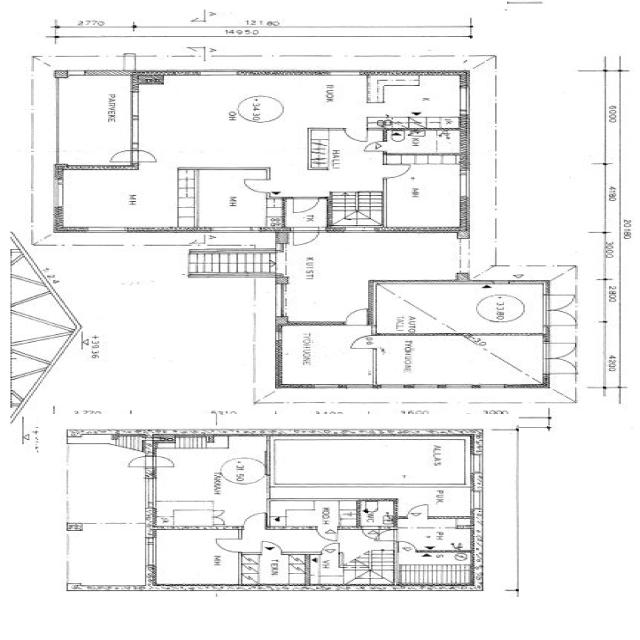door: (543, 340, 580, 376), (544, 293, 578, 327), (289, 227, 322, 247), (288, 196, 324, 214), (341, 306, 373, 326), (106, 148, 139, 166), (239, 177, 272, 194), (212, 536, 243, 553), (346, 334, 378, 350), (382, 163, 412, 179), (242, 511, 268, 529), (404, 502, 431, 519), (342, 127, 369, 143), (132, 148, 159, 164), (314, 527, 341, 542), (261, 538, 286, 554), (125, 454, 151, 468), (151, 454, 177, 468), (374, 528, 400, 542), (361, 140, 387, 153), (318, 540, 342, 554), (394, 539, 418, 553), (360, 526, 380, 539)
window: (272, 281, 294, 317), (140, 475, 160, 507), (142, 535, 161, 568), (126, 115, 144, 149), (50, 179, 68, 209), (127, 90, 144, 121), (455, 172, 473, 200), (465, 451, 485, 476), (82, 225, 130, 235), (456, 85, 472, 114), (467, 488, 485, 513), (206, 226, 258, 234), (198, 69, 240, 78), (326, 70, 363, 78), (474, 382, 510, 390), (339, 227, 380, 234), (310, 382, 344, 390), (442, 382, 476, 390), (378, 382, 409, 390), (343, 383, 378, 390), (408, 383, 442, 390)
zone: (136, 76, 339, 168), (270, 438, 472, 489), (498, 67, 608, 156), (54, 168, 198, 231), (370, 282, 544, 334), (378, 335, 550, 387), (292, 234, 461, 283), (154, 439, 269, 510), (52, 76, 135, 166), (64, 442, 149, 526), (276, 323, 376, 387), (383, 156, 466, 230), (64, 525, 152, 588), (187, 169, 277, 230), (151, 528, 241, 586), (372, 76, 465, 129), (396, 517, 476, 552), (397, 551, 475, 586), (241, 552, 310, 586), (383, 130, 464, 156), (267, 500, 334, 529), (305, 552, 341, 584), (360, 498, 395, 528), (339, 500, 360, 526)
